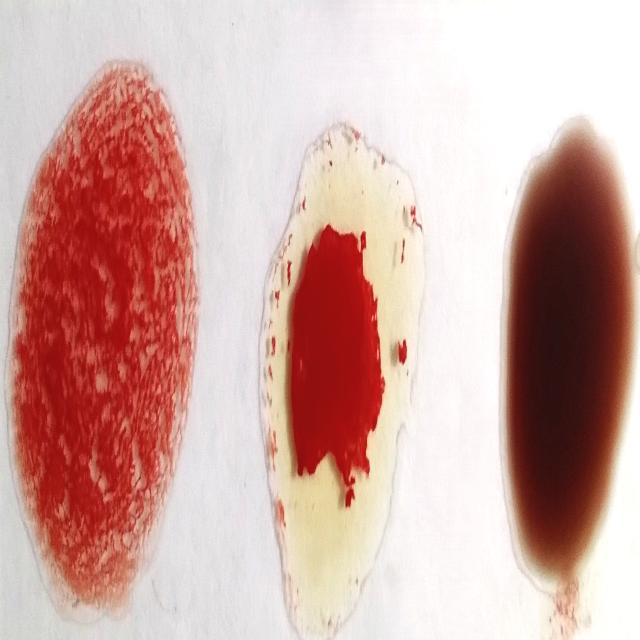B: (258, 126, 428, 614)
D: (18, 66, 190, 598)
